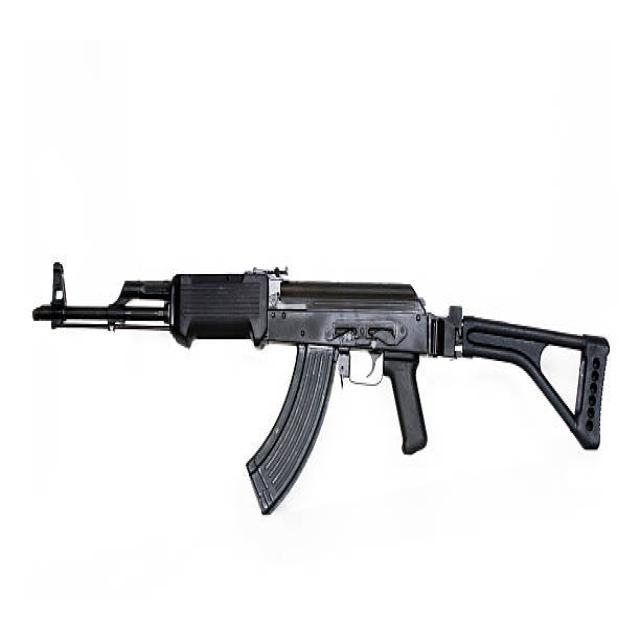rifle: (27, 249, 613, 527)
